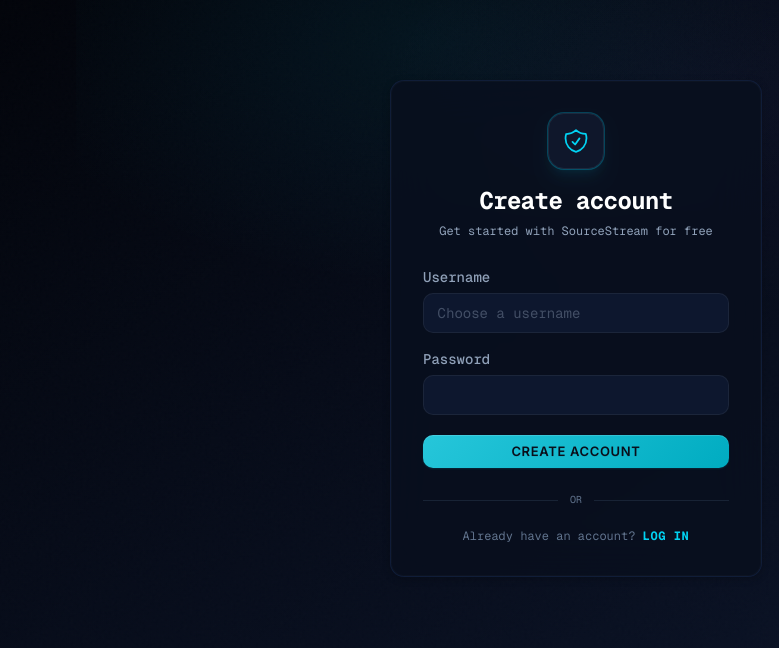
Test: AuthPage › shows error on duplicate registration
The image size is (779, 648).
In the field with test id "auth-username": (576,313) [423,293,729,333], type "admin"
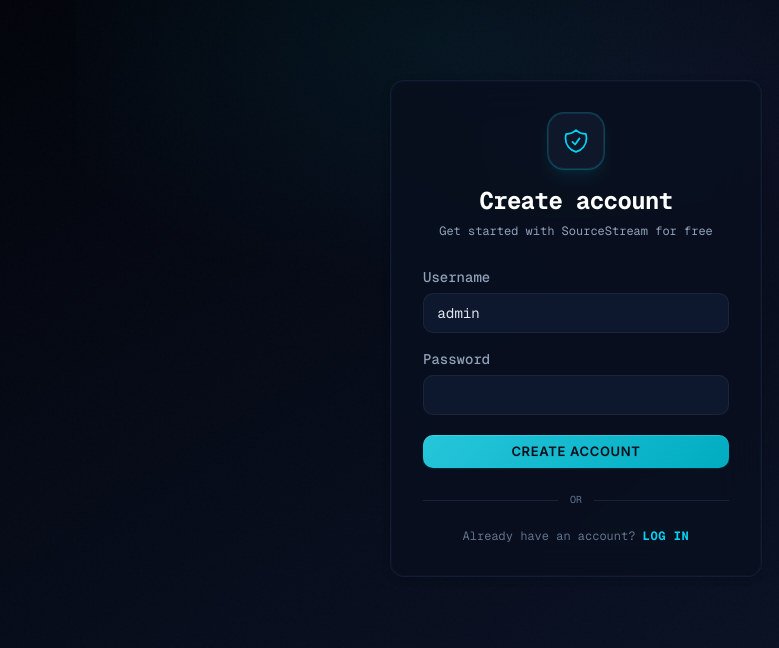
In the password field with test id "auth-password": (576,395) [423,375,729,415], type "admin"
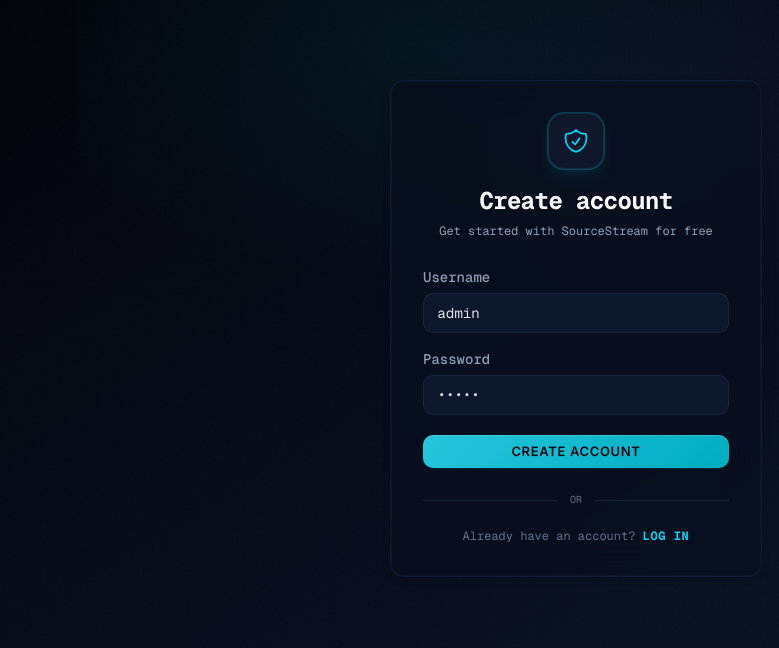
Click the button "Create account": (576,451) [423,435,729,468]
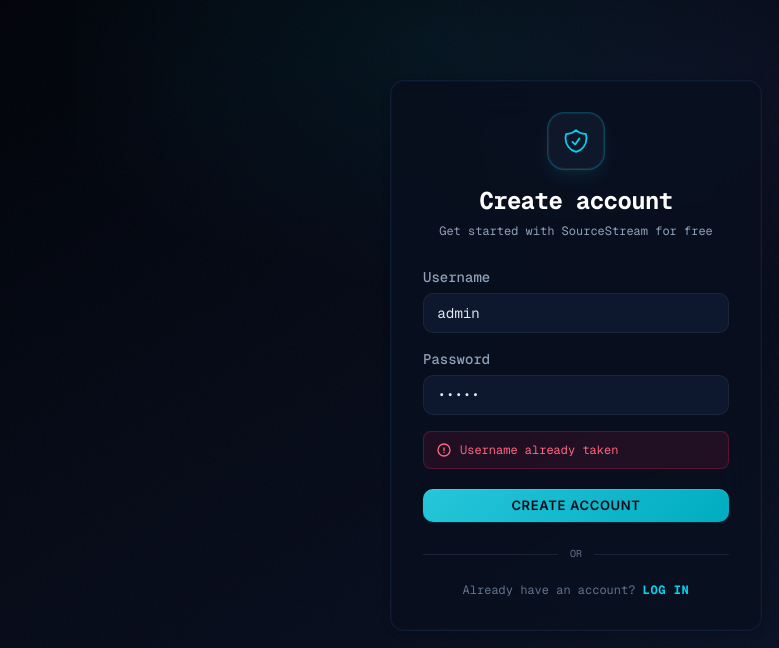
Now the message with test id "auth-error" shows "already taken", box [460,442,618,458]
